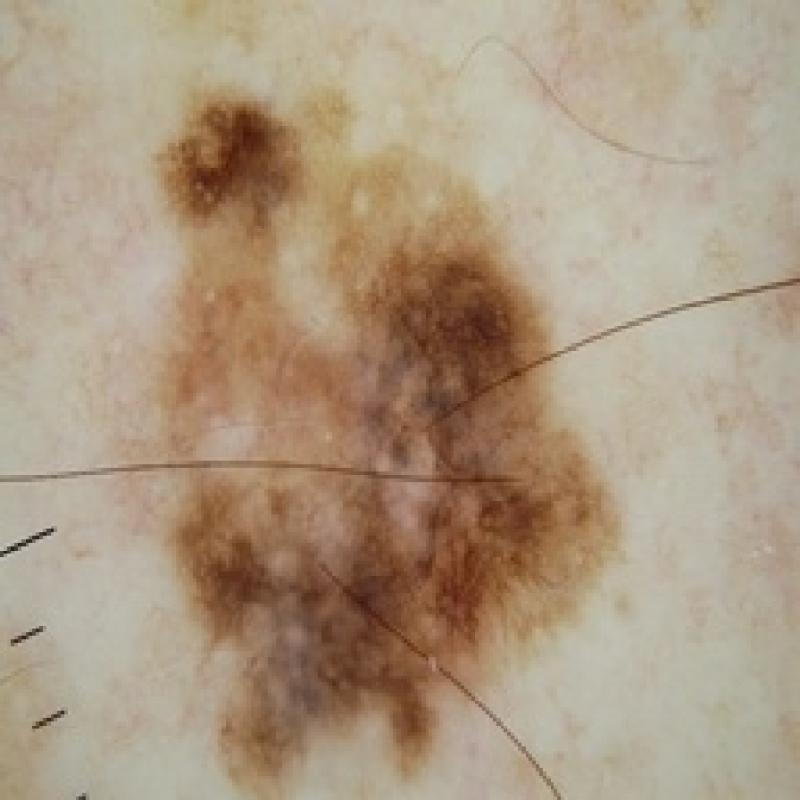malignant: (90, 67, 628, 787)
